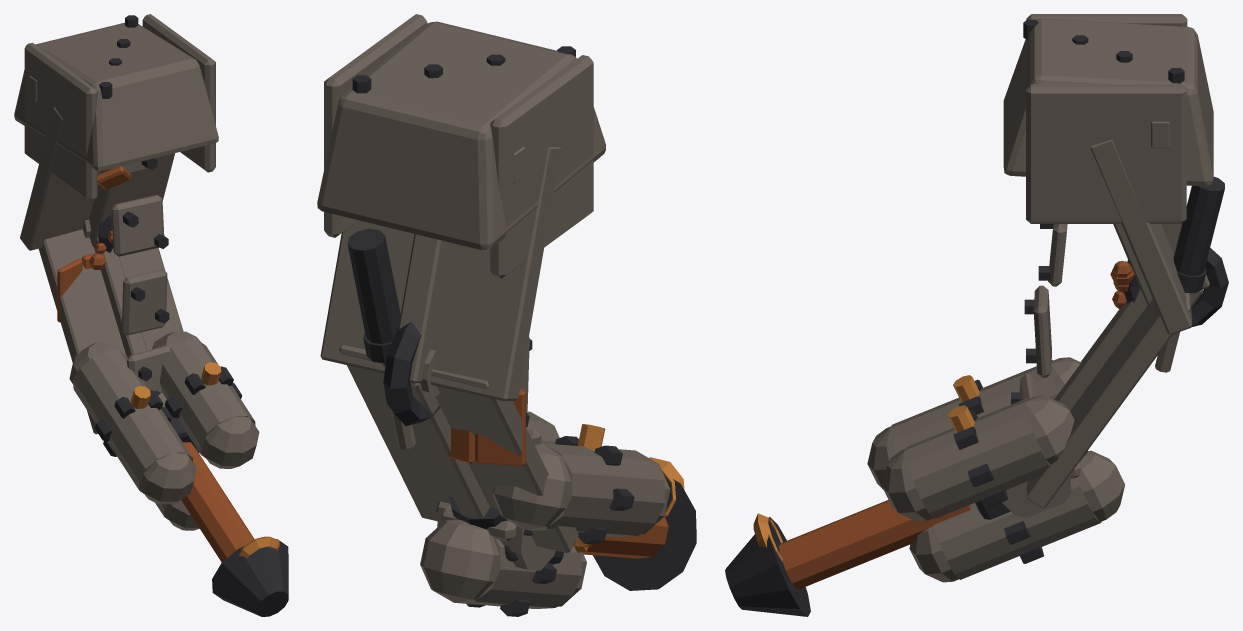
Rendered from ar_pulse.glb.
3 views of the same model, side by side, from view 1: azimuth 30°, elevation 25°; view 2: azimuth 150°, elevation 25°; view 3: azimuth 270°, elevation 25° (orthographic). The views are drawn at different scales.
Visible parts, largest first — view 1: ar_pulse; view 2: ar_pulse; view 3: ar_pulse.
Part boxes in pixels (box(x1,y1,x2,y2)): ar_pulse: box(14, 14, 288, 616); ar_pulse: box(317, 14, 696, 616); ar_pulse: box(725, 14, 1228, 616).
Bounding box in the file's own units: 0.132 × 0.4285 × 0.3467.
